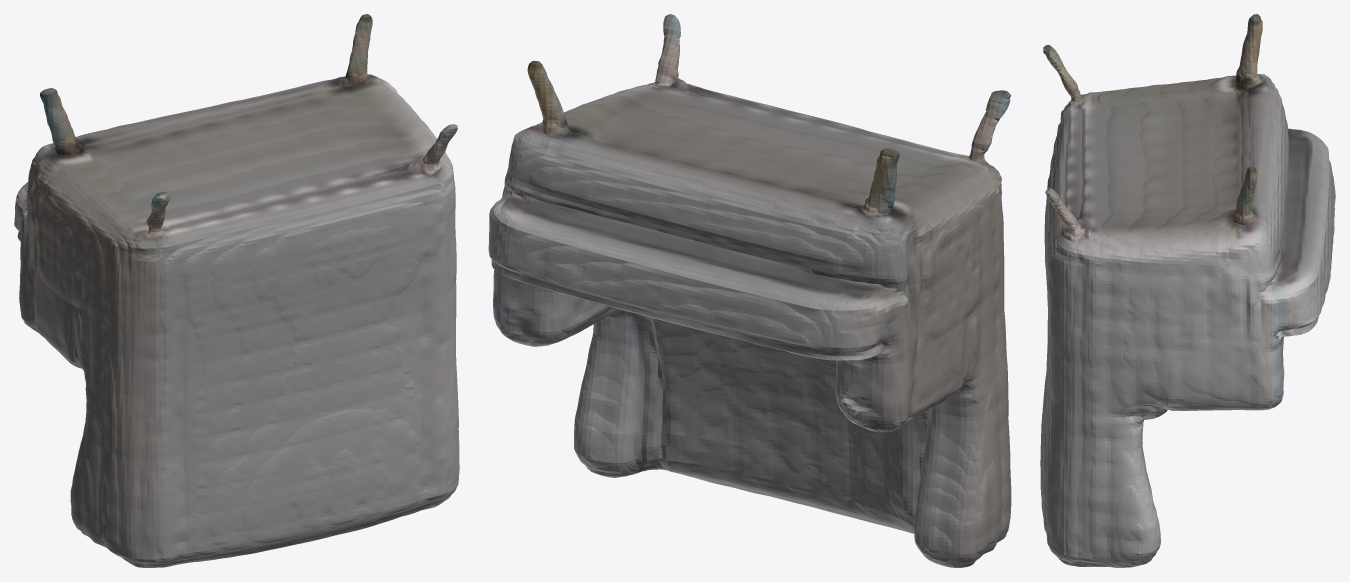
File: charm-velvet-arm-chair-in-dark-grey-colour-copy.glb
3 views of the same model, side by side, from view 1: azimuth 30°, elevation 25°; view 2: azimuth 150°, elevation 25°; view 3: azimuth 270°, elevation 25° (orthographic). The views are drawn at different scales.
Parts seen in each view (by area): view 1: orient; view 2: orient; view 3: orient.
Boxes of the visible parts, <box> form: orient: <box>14,14,459,567</box>; orient: <box>488,14,1011,567</box>; orient: <box>1040,14,1335,567</box>.
Size of the model in its own units: 0.99 by 1.06 by 0.69.
